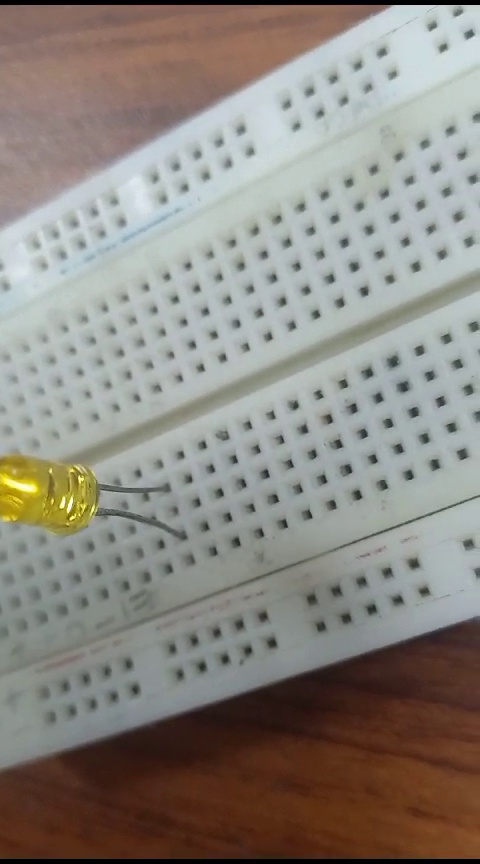LED: (1, 447, 186, 528)
